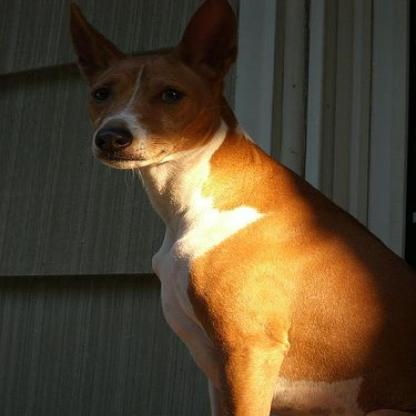basenji: (65, 0, 412, 414)
